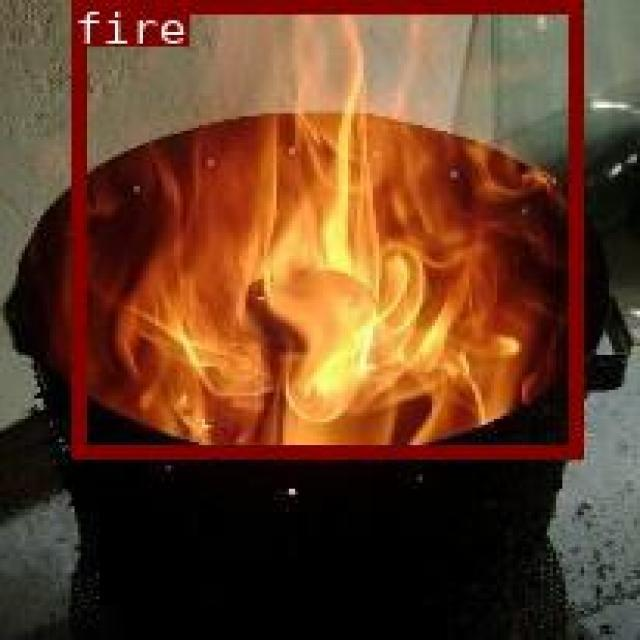fire: (68, 0, 578, 454)
